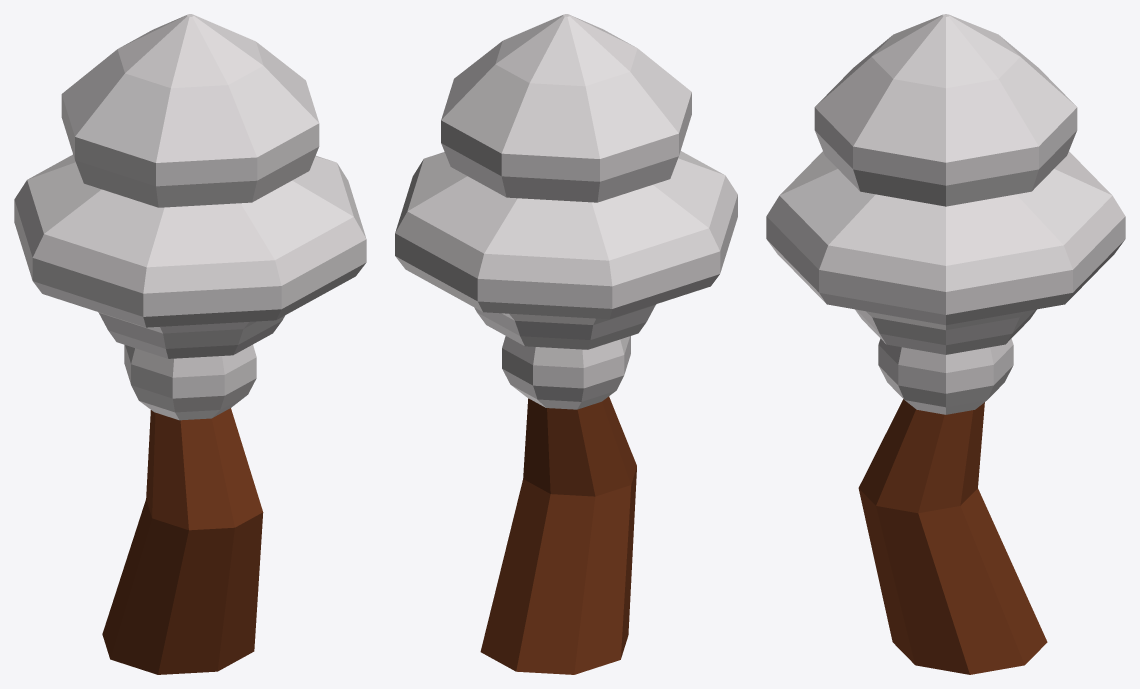
File: Tree5.fbx
3 renders of one model, left to right at view 1: azimuth 30°, elevation 25°; view 2: azimuth 150°, elevation 25°; view 3: azimuth 270°, elevation 25°, orthographic. The views are drawn at different scales.
Parts seen in each view (by area): view 1: Cylinder.001, Cylinder; view 2: Cylinder.001, Cylinder; view 3: Cylinder.001, Cylinder.
Boxes of the visible parts, <box> form: Cylinder.001: <box>14,14,366,420</box>; Cylinder: <box>102,408,263,674</box>; Cylinder.001: <box>395,14,737,409</box>; Cylinder: <box>480,396,636,674</box>; Cylinder.001: <box>766,14,1125,414</box>; Cylinder: <box>858,399,1047,674</box>.
Bounding box in the file's own units: 463 × 892 × 463.
